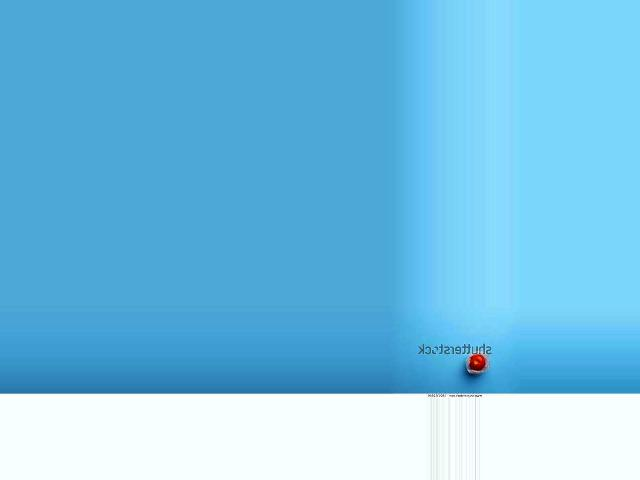tomato: (468, 354, 484, 370)
